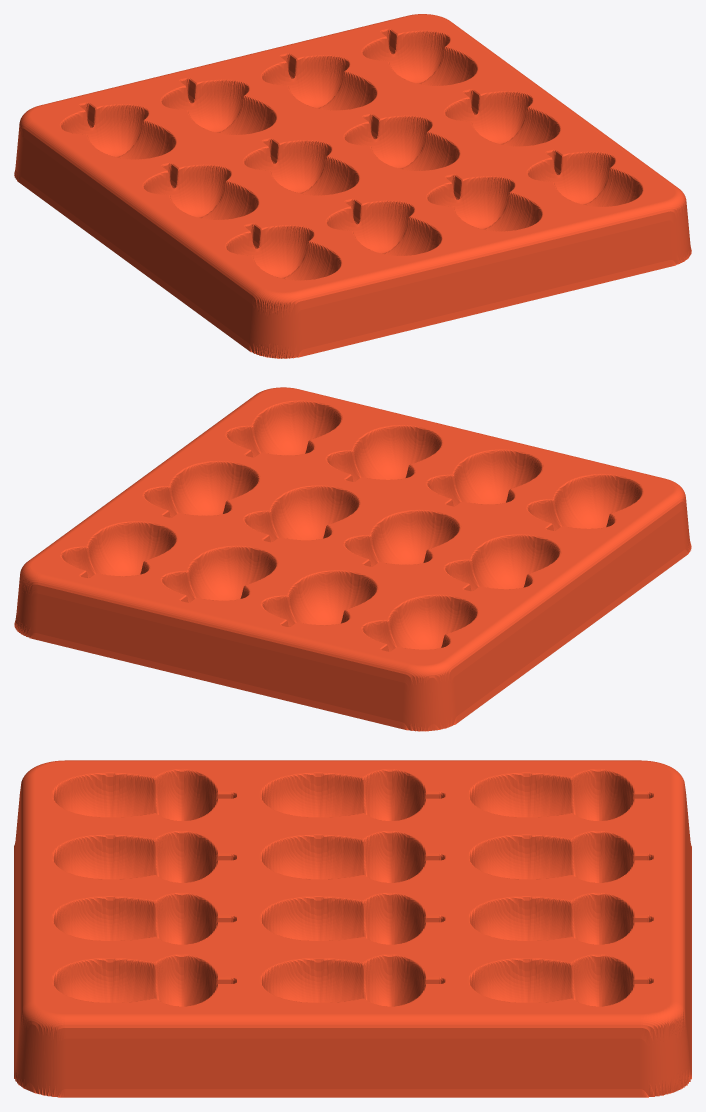
File: mold.glb
3 views of the same model, one above another, from view 1: azimuth 30°, elevation 25°; view 2: azimuth 150°, elevation 25°; view 3: azimuth 270°, elevation 25° (orthographic). The views are drawn at different scales.
Parts seen in each view (by area): view 1: geometry_0; view 2: geometry_0; view 3: geometry_0.
Part boxes in pixels (left/top/right/bottom): geometry_0: left=14, top=14, right=691, bottom=358; geometry_0: left=14, top=387, right=691, bottom=731; geometry_0: left=14, top=760, right=691, bottom=1097.
Bounding box in the file's own units: 0.1122 × 0.0145 × 0.1192.
